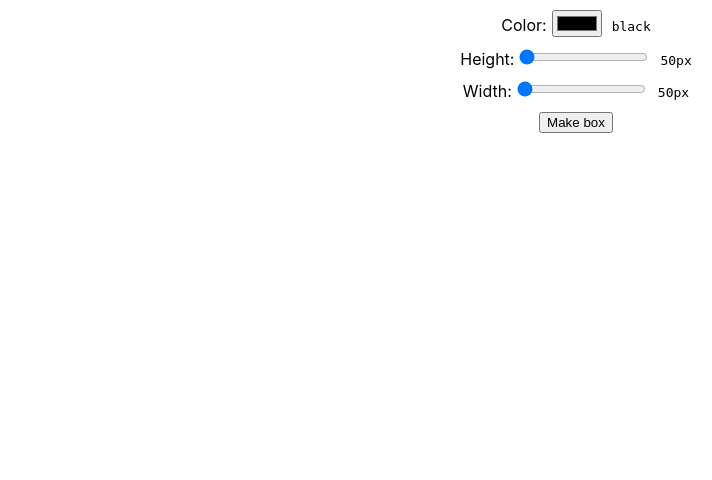
should add new box
Type "#1d7bd3" into the colour field labelled "Color:" at [577, 24], box [552,10,602,37]
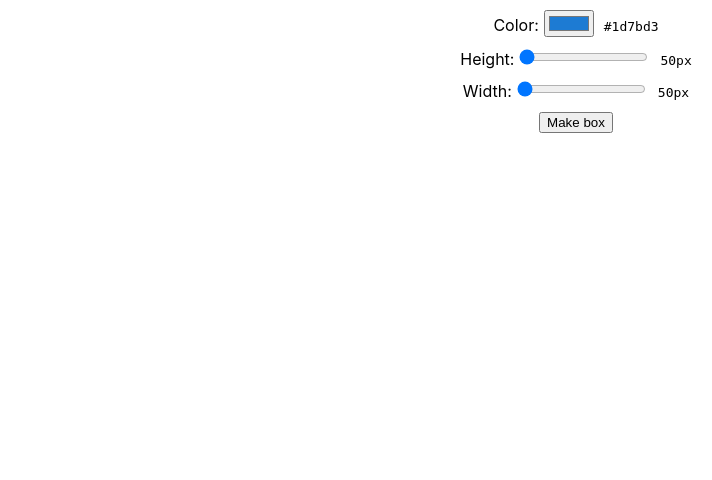
Set the slider labelled "Height:" to "300" at [590, 57], box [520,49,648,65]
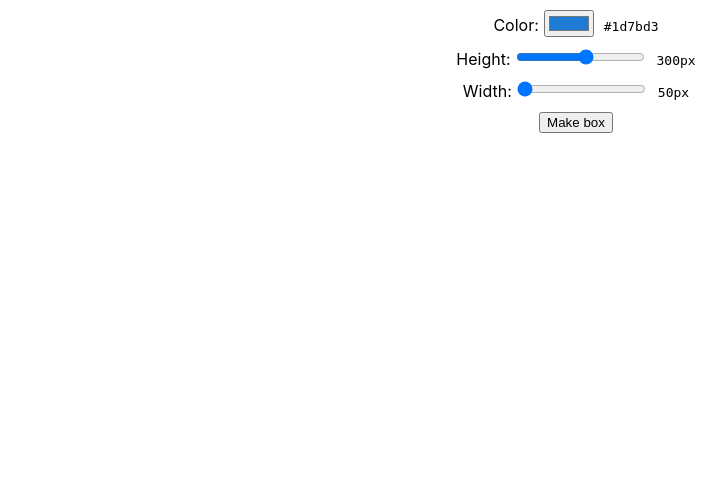
Set the slider labelled "Width:" to "125" at [544, 89], box [517,81,646,97]
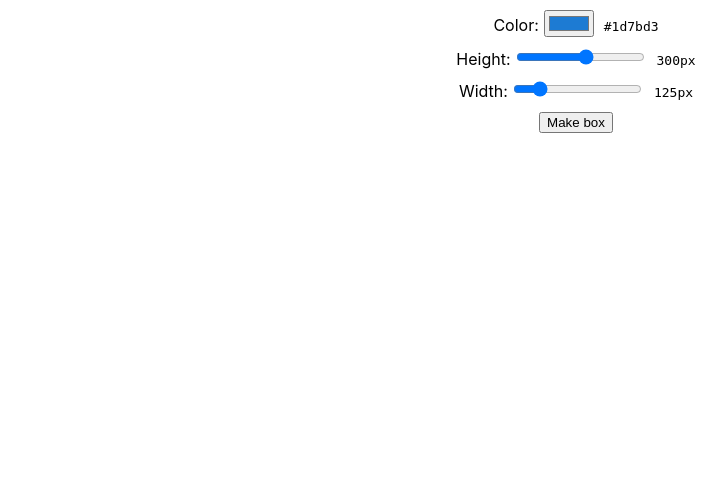
Click the button "Make box" at [576, 122], box [539,112,613,133]
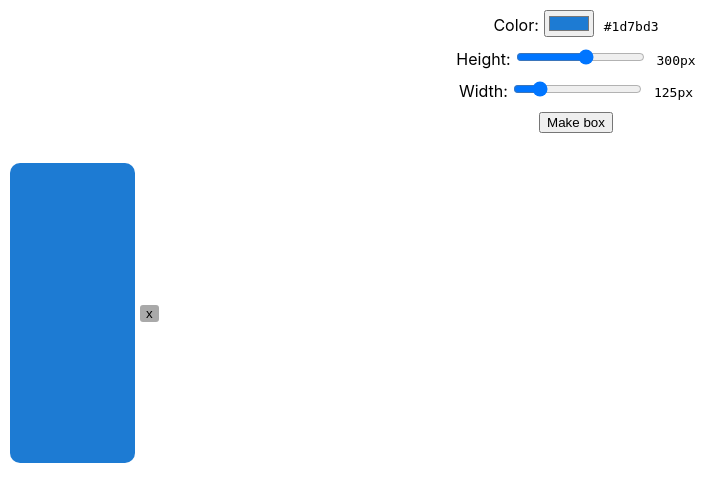
Expected: the element with test id "colored-box" is shown, [10,163,135,463]
